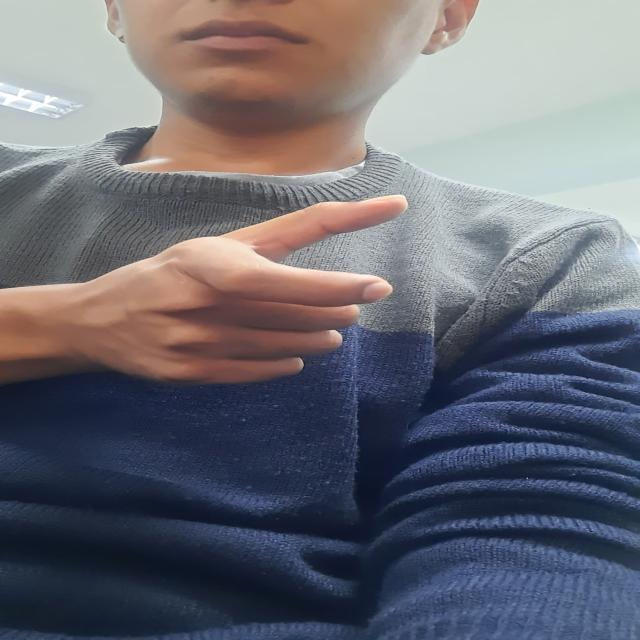G: (42, 198, 432, 388)
